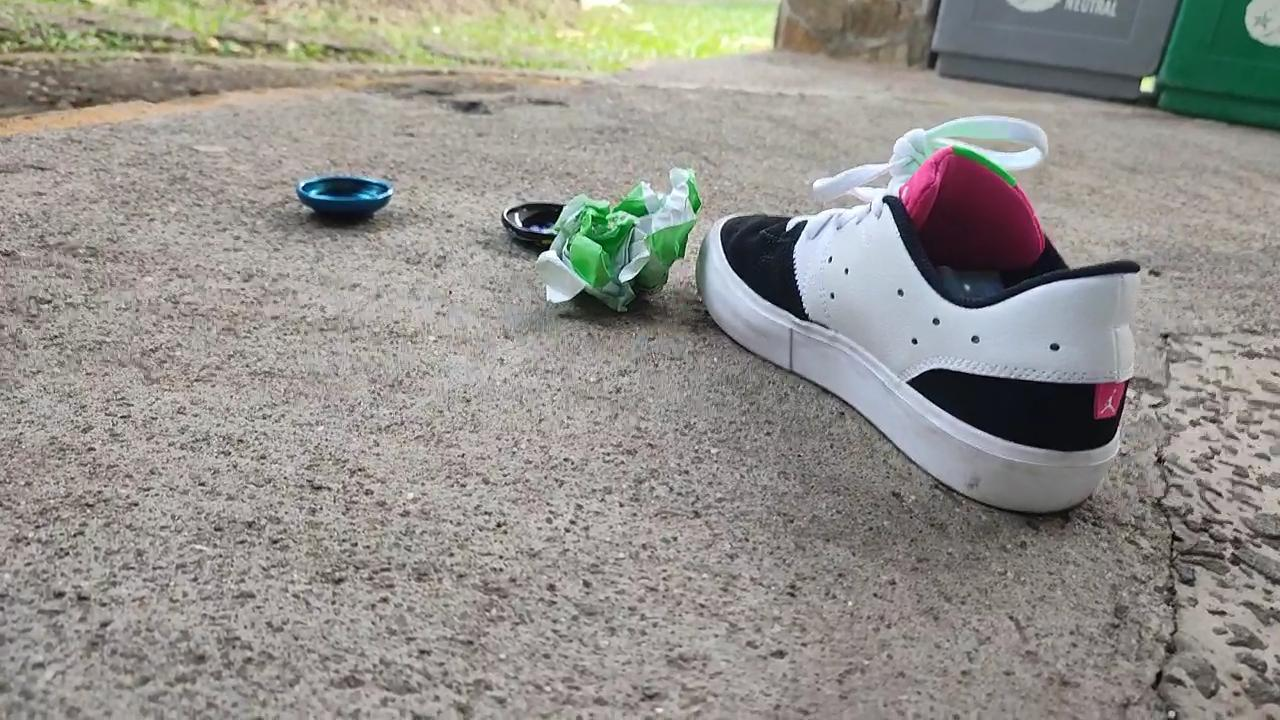Paper: (542, 150, 704, 331)
